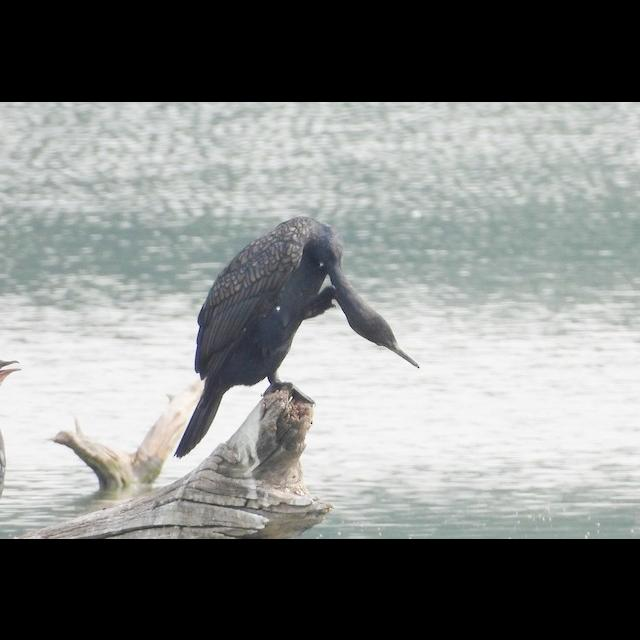cormorant: (168, 213, 420, 463)
